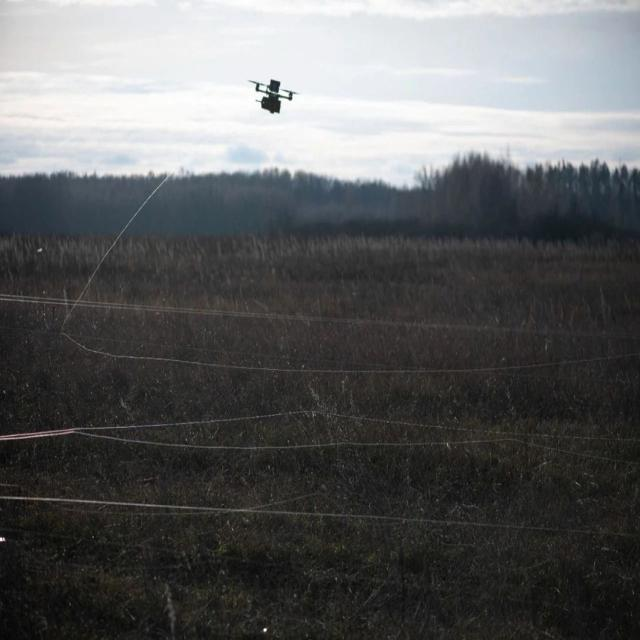drone: (247, 74, 300, 118)
